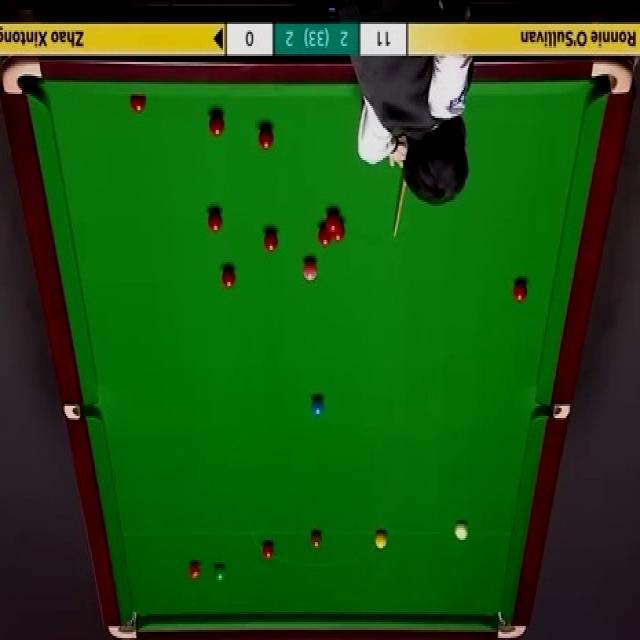blue-ball: (311, 395, 325, 418)
brown-ball: (310, 529, 324, 552)
green-ball: (213, 562, 228, 582)
pink-ball: (302, 258, 317, 286)
red-ball: (220, 262, 237, 291), (512, 277, 529, 304), (209, 111, 226, 137), (258, 125, 274, 151), (208, 210, 223, 235), (264, 228, 279, 253), (318, 222, 332, 246), (130, 95, 146, 114), (187, 560, 202, 580), (326, 210, 339, 230), (332, 222, 345, 242), (262, 542, 275, 560)
white-ball: (453, 520, 470, 544)
yellow-ball: (375, 531, 388, 551)
